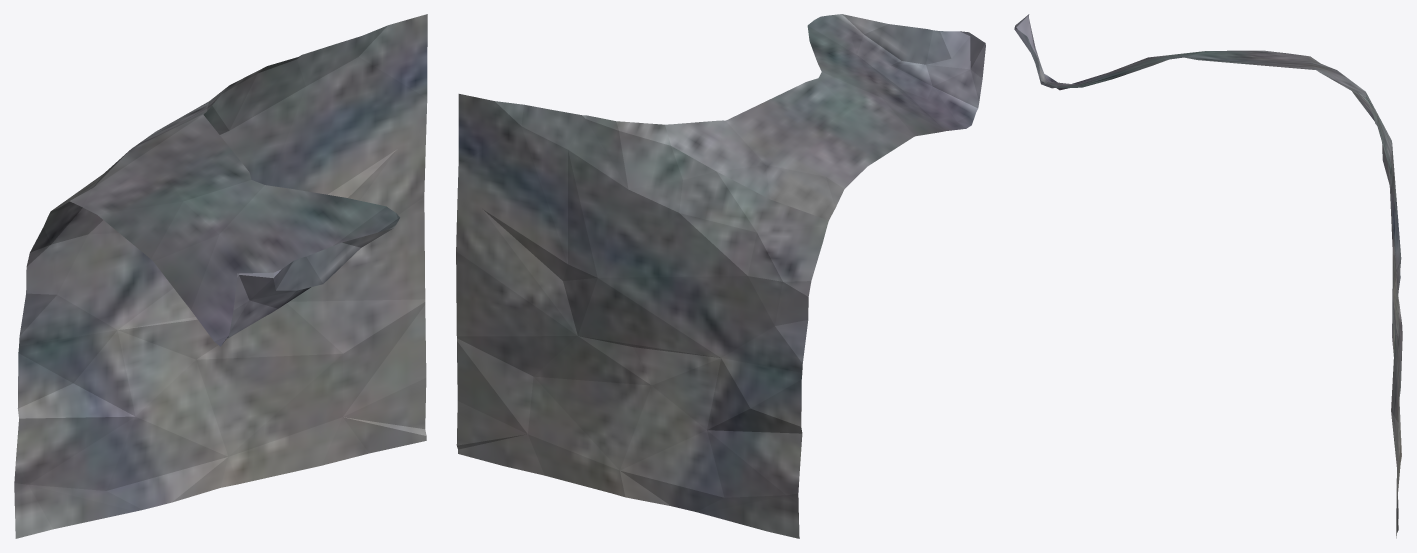
The model's file is Tile_+003_+006_L24_0032122.obj.
3 views of the same model, side by side, from view 1: azimuth 30°, elevation 25°; view 2: azimuth 150°, elevation 25°; view 3: azimuth 270°, elevation 25° (orthographic). The views are drawn at different scales.
Size of the model in its own units: 0.9531 by 0.9531 by 0.9369.
1 material, 1 textured.
